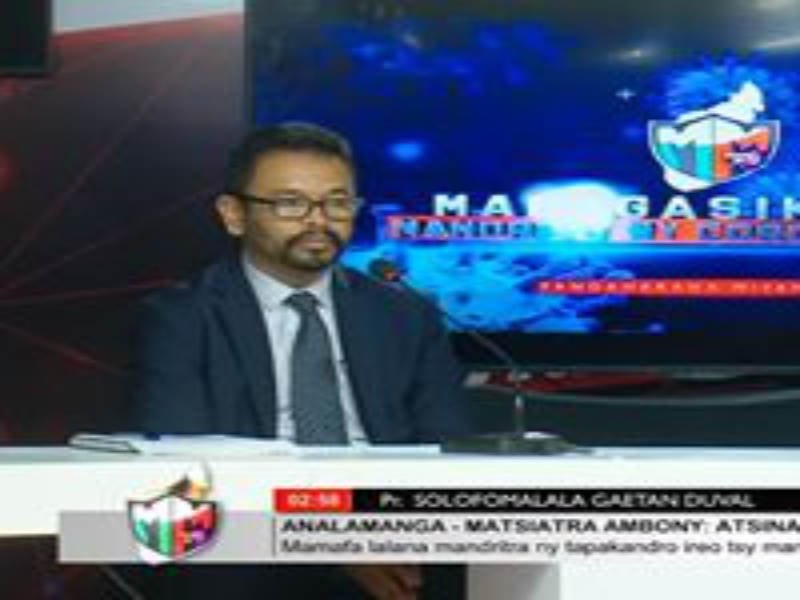TsisyArotava: (204, 121, 378, 291)
